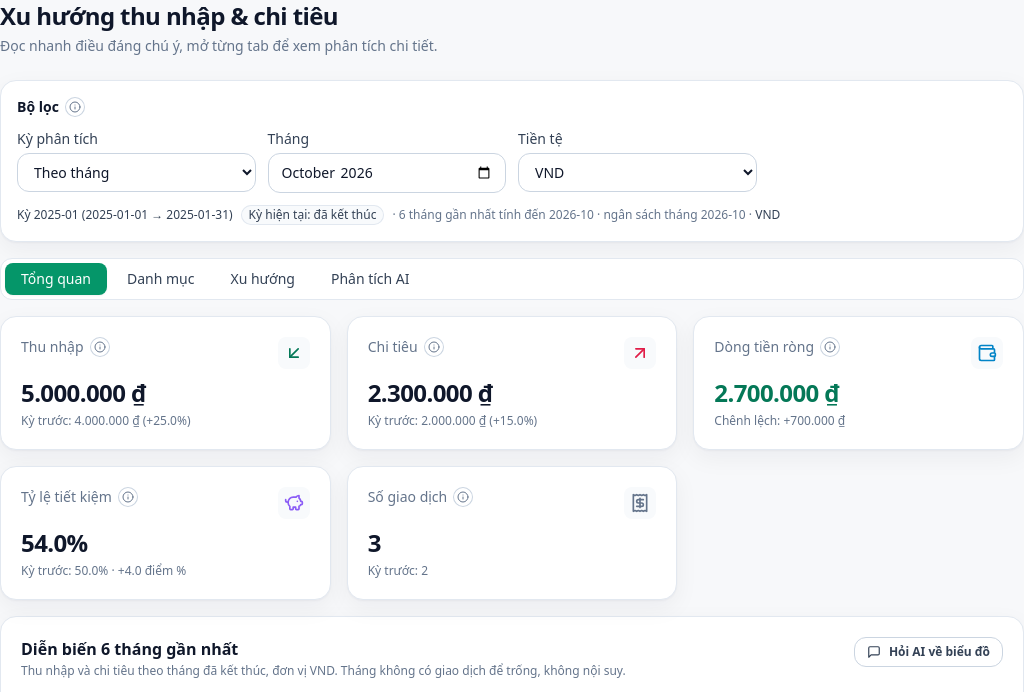
Scenario: AnalyticsPage — filters › blocks requests and explains an invalid custom range
Select "Khoảng tùy chọn" in the dropdown labelled "Kỳ phân tích" at (136, 172), box x1=17 y1=153 x2=256 y2=192
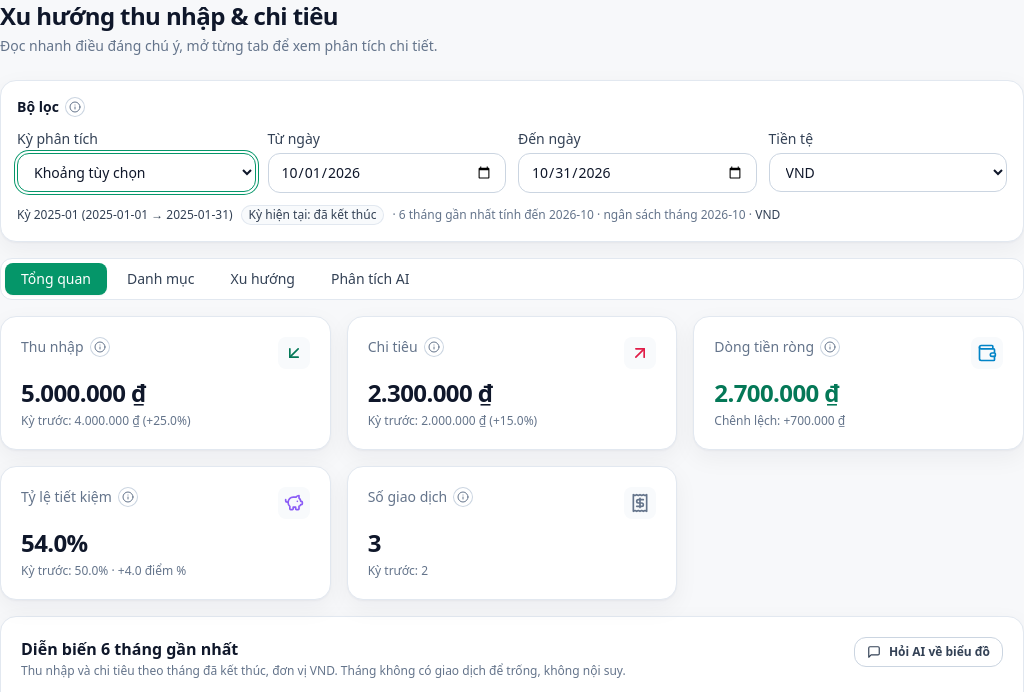
Type "2000-01-01" into the date field labelled "Đến ngày" at (637, 173), box x1=518 y1=153 x2=756 y2=193
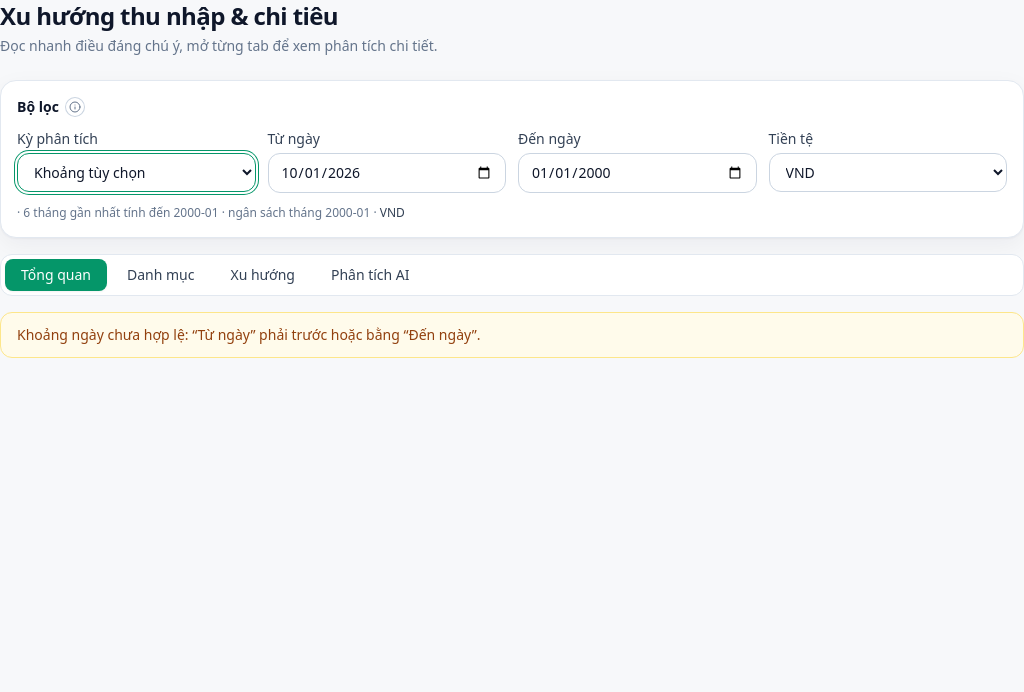
Now the text "Khoảng ngày chưa hợp lệ: “Từ ngày” phải trước hoặc bằng “Đến ngày”." is shown, box x1=0 y1=312 x2=1023 y2=358
